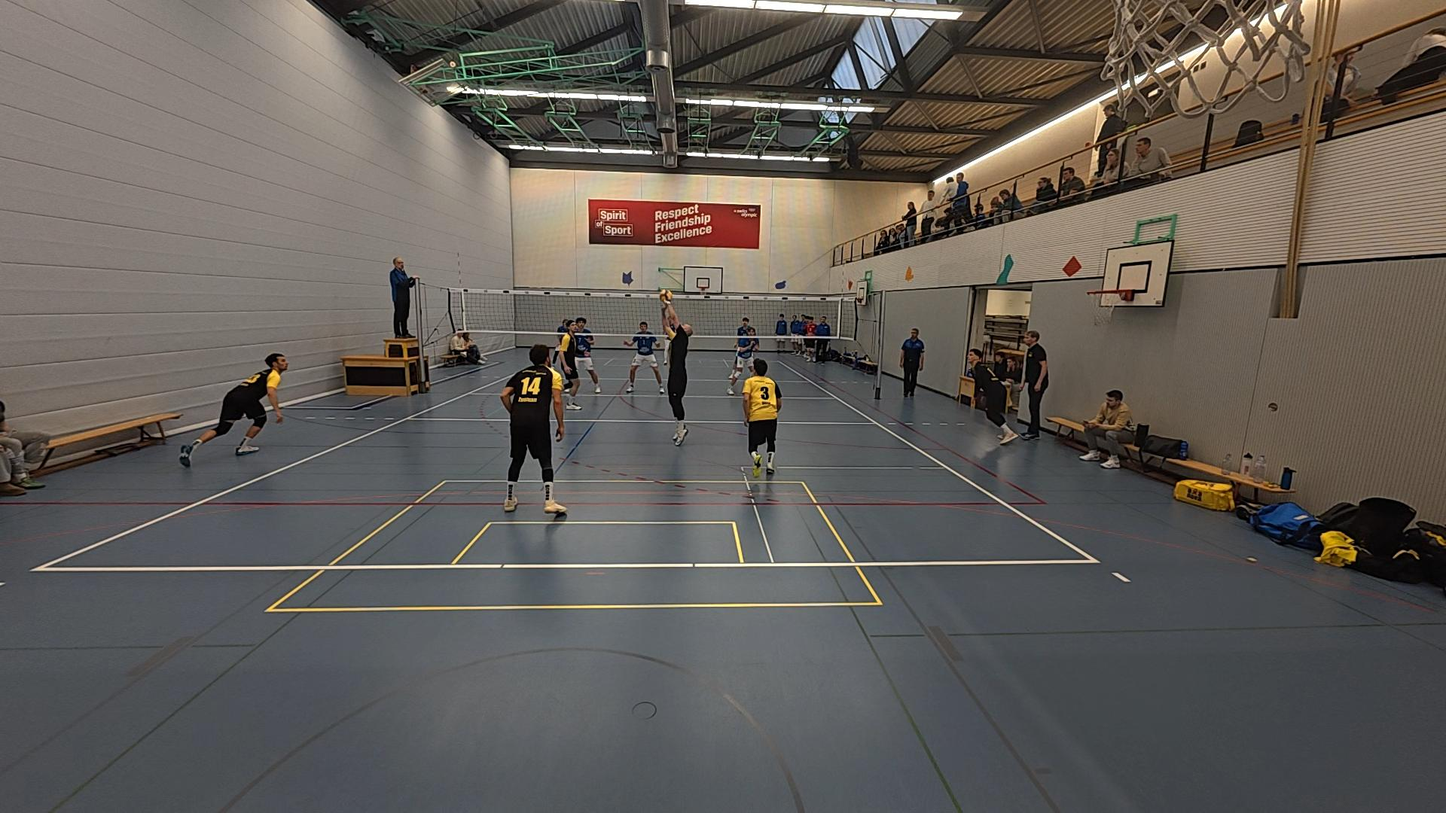alzata: (653, 295, 697, 446)
